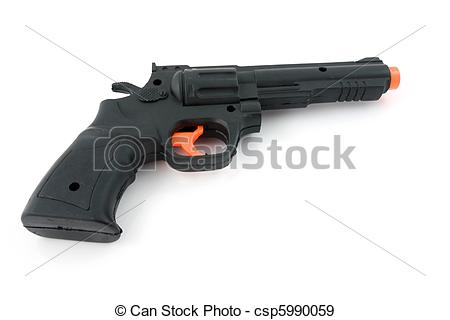Arma Falsa: (19, 54, 405, 243)
